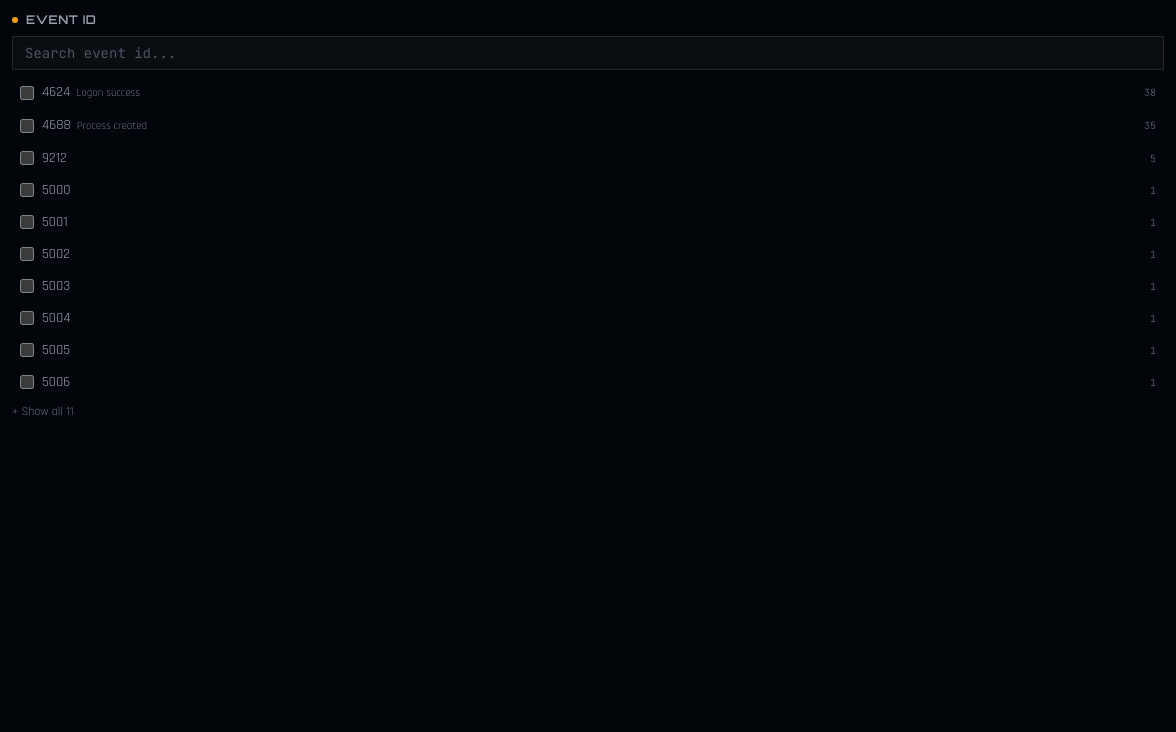
Test: Facet with labels › search matches labels, not only raw values
In the field with placeholder "Search event id...": [588, 53] box x1=12 y1=36 x2=1164 y2=70, type "logon"
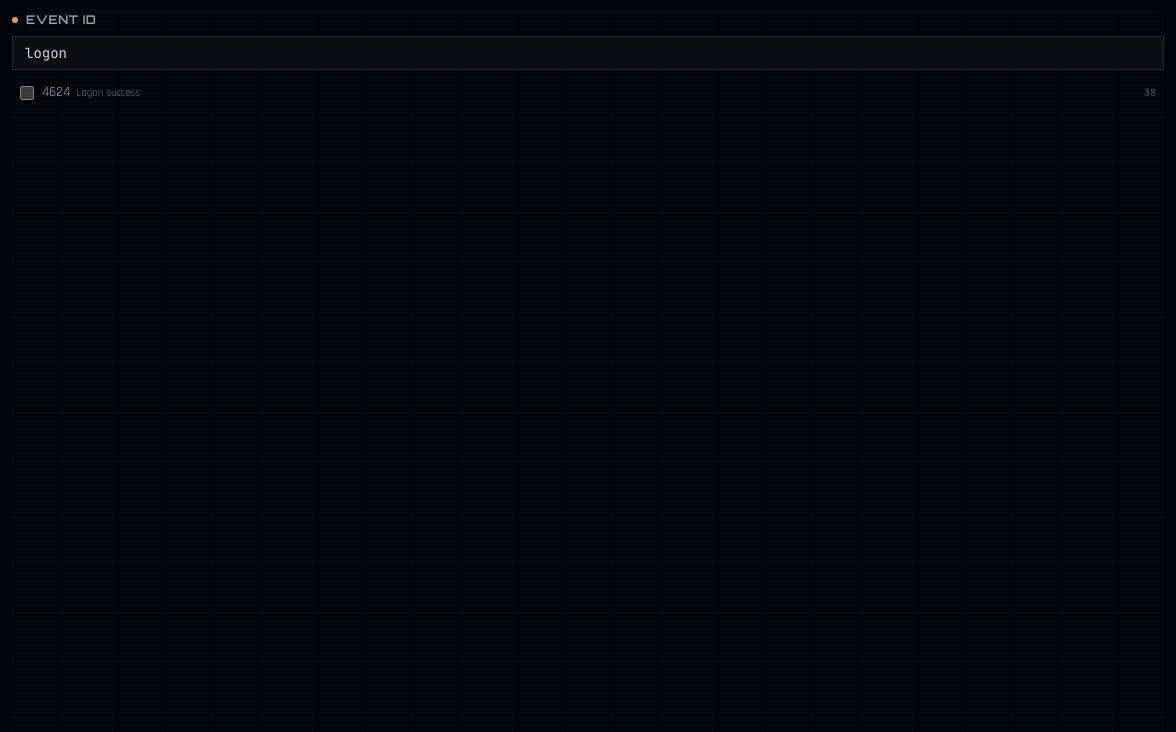
Expected: the text "4624" is shown, x1=42 y1=83 x2=70 y2=101
Now the text "4688" is gone
Now the text "9212" is gone
